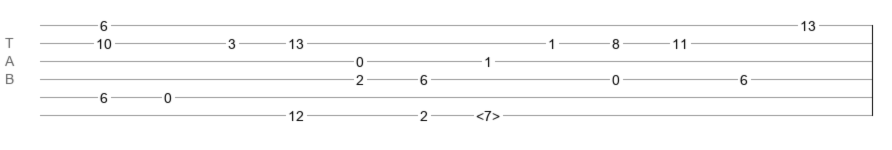0: (164, 90, 172, 100), (356, 54, 364, 64), (612, 72, 620, 82)
1: (484, 54, 492, 64), (548, 36, 556, 46)
10: (96, 36, 112, 46)
11: (672, 36, 688, 46)
12: (288, 108, 304, 118)
13: (288, 36, 304, 46), (800, 18, 816, 28)
2: (356, 72, 364, 82), (420, 108, 428, 118)
3: (228, 36, 236, 46)
6: (100, 18, 108, 28), (100, 90, 108, 100), (420, 72, 428, 82), (740, 72, 748, 82)
8: (612, 36, 620, 46)
harmonic: (476, 108, 500, 118)
